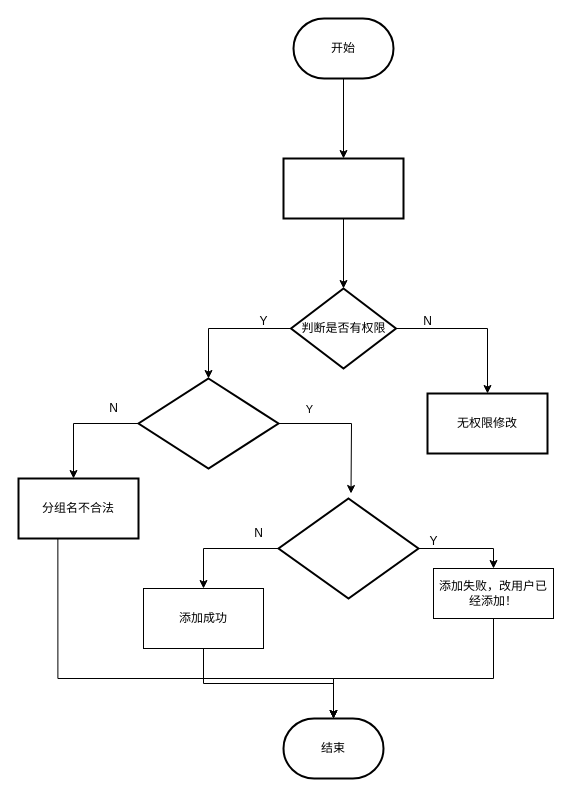
Some shapes in this 571 by 796 pixel diagram are drawn without their labels. The box of each missing label's shape, as (x1, y1, x2, y2) in pixels:
把用户添加到分组中: (282, 157, 404, 219)
检验分组名是否合法: (137, 377, 279, 469)
检验是否已经 添加了用户: (277, 497, 419, 599)
